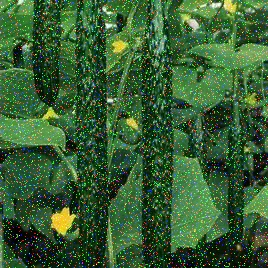cucumber: (75, 8, 107, 261), (144, 12, 169, 264), (31, 1, 60, 102), (228, 118, 248, 244)
cucumber_plant: (5, 156, 71, 235)
